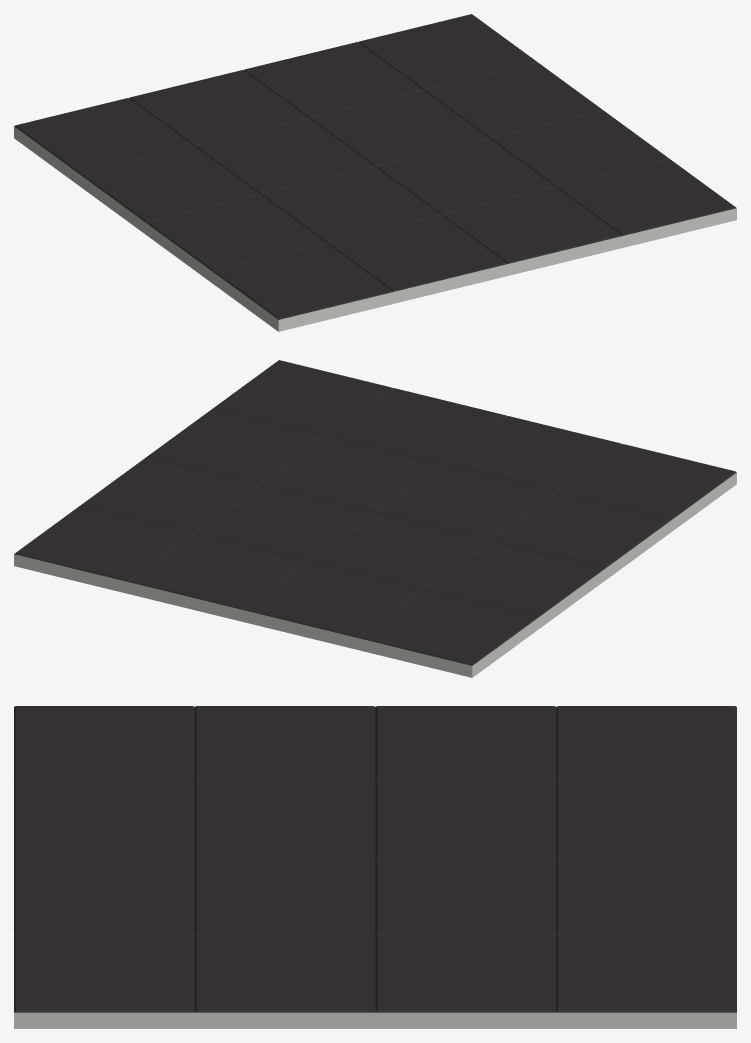
The model's file is Floor_2A.fbx.
3 renders of one model, top to bottom at view 1: azimuth 30°, elevation 25°; view 2: azimuth 150°, elevation 25°; view 3: azimuth 270°, elevation 25°, orthographic. The views are drawn at different scales.
Visible parts, largest first — view 1: pCube810; view 2: pCube810; view 3: pCube810.
Boxes of the visible parts, x1,y1,x2,y2 form: pCube810: (14, 14, 736, 331); pCube810: (14, 360, 736, 677); pCube810: (14, 706, 736, 1028).
Bounding box in the file's own units: 4 × 0.11 × 4.
1 material, 1 textured.
